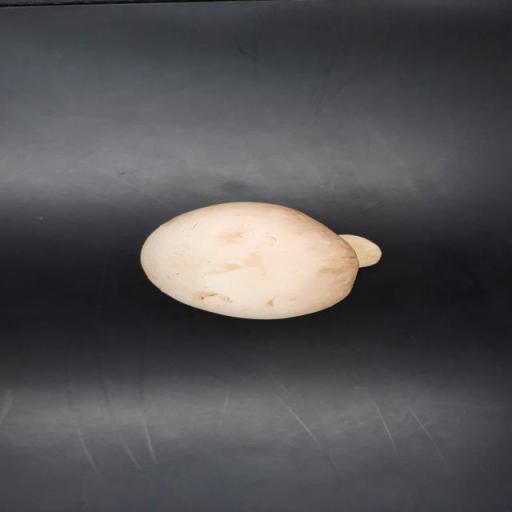mushroom: (135, 193, 384, 332)
